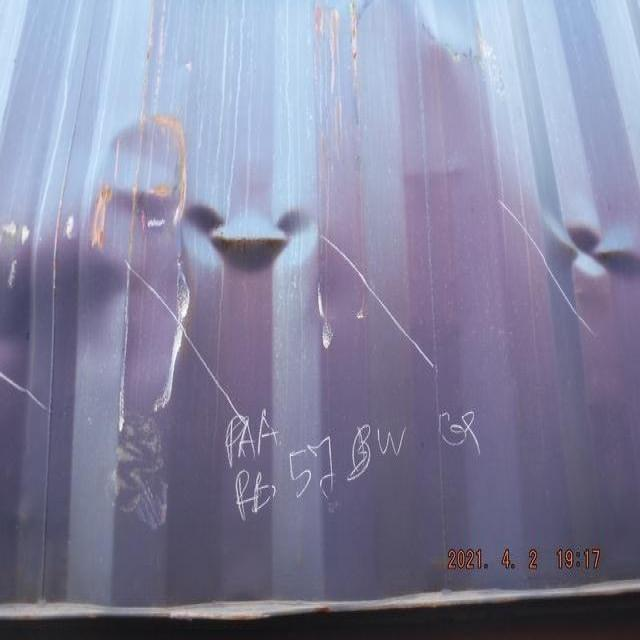Dent: (0, 107, 325, 413)
Minor-Dent: (499, 199, 640, 307)
